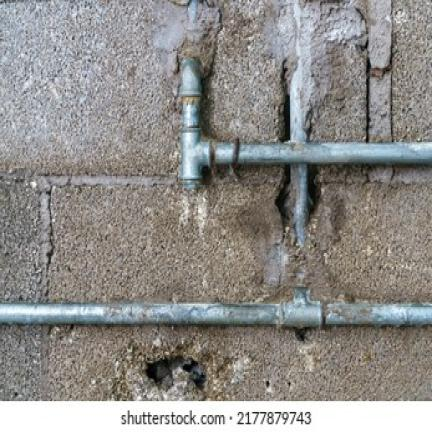besi_tidak_karat: (0, 289, 431, 328), (237, 142, 431, 165)
